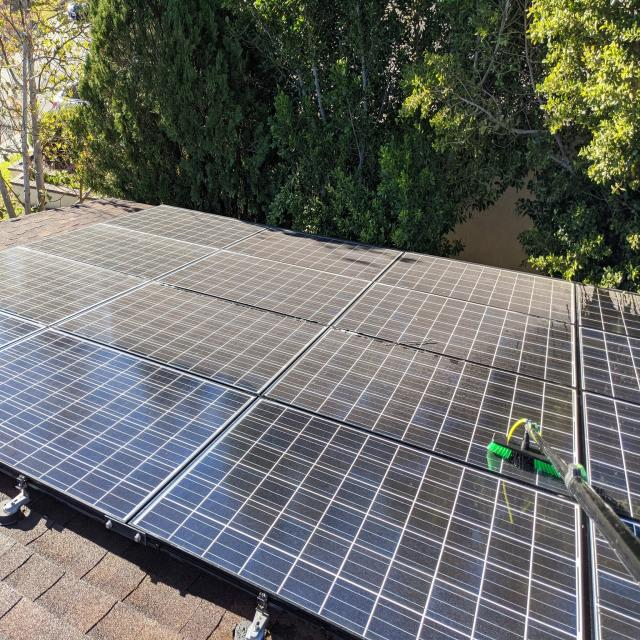dust-solar-panel: (0, 201, 604, 430)
